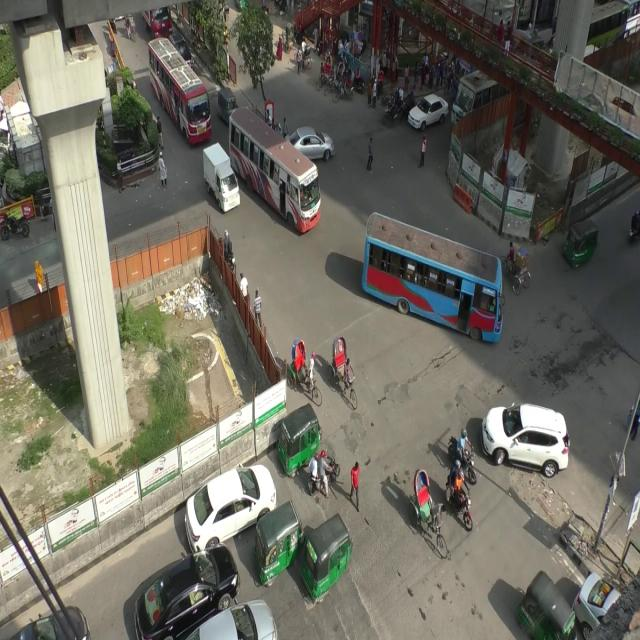Rikshaw-Py4o: (406, 466, 436, 556), (331, 332, 359, 405), (294, 329, 317, 384)
